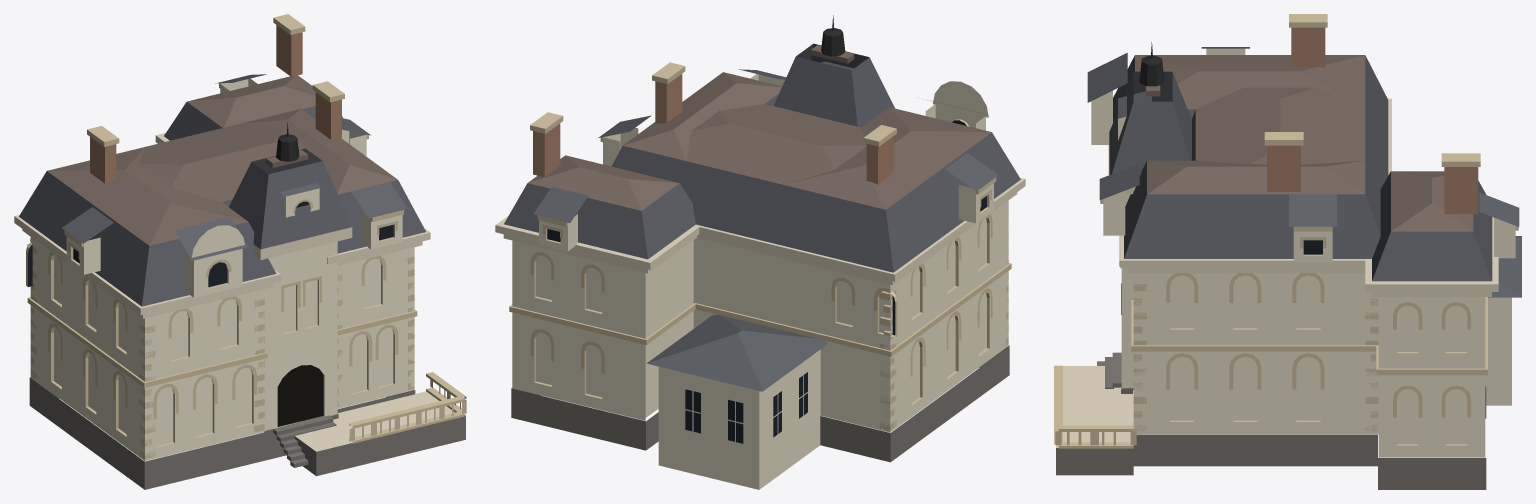
The model's file is villa-marre.glb.
3 views of the same model, side by side, from view 1: azimuth 30°, elevation 25°; view 2: azimuth 150°, elevation 25°; view 3: azimuth 270°, elevation 25° (orthographic). The views are drawn at different scales.
Parts seen in each view (by area): view 1: villa_wall, villa_slate, villa_slate2, villa_stone, villa_granite, villa_trim, villa_brick2, villa_shadow, villa_glass, villa_iron; view 2: villa_wall, villa_slate, villa_slate2, villa_stone, villa_granite, villa_trim, villa_brick2, villa_glass, villa_iron; view 3: villa_wall, villa_slate, villa_slate2, villa_granite, villa_stone, villa_trim, villa_brick2, villa_iron.
Boxes of the visible parts, <box> form: villa_wall: <box>30,78,414,460</box>; villa_slate: <box>19,74,425,306</box>; villa_slate2: <box>47,75,397,245</box>; villa_stone: <box>26,14,466,459</box>; villa_granite: <box>29,377,465,489</box>; villa_trim: <box>14,133,465,451</box>; villa_brick2: <box>90,25,341,183</box>; villa_shadow: <box>277,365,323,426</box>; villa_glass: <box>28,201,393,287</box>; villa_iron: <box>276,123,299,161</box>; villa_wall: <box>512,74,1008,489</box>; villa_slate: <box>504,43,1020,391</box>; villa_slate2: <box>528,45,991,210</box>; villa_stone: <box>509,62,1011,430</box>; villa_granite: <box>511,345,1009,462</box>; villa_trim: <box>495,177,1025,285</box>; villa_brick2: <box>533,74,893,184</box>; villa_glass: <box>547,120,986,443</box>; villa_iron: <box>821,15,845,56</box>; villa_wall: <box>1091,48,1515,457</box>; villa_slate: <box>1087,47,1521,297</box>; villa_slate2: <box>1135,55,1473,231</box>; villa_granite: <box>1056,283,1486,489</box>; villa_stone: <box>1054,14,1518,448</box>; villa_trim: <box>1056,98,1498,447</box>; villa_brick2: <box>1267,27,1478,214</box>; villa_iron: <box>1139,42,1164,86</box>.
Bounding box in the file's own units: 18.95 × 16.4 × 19.28.
